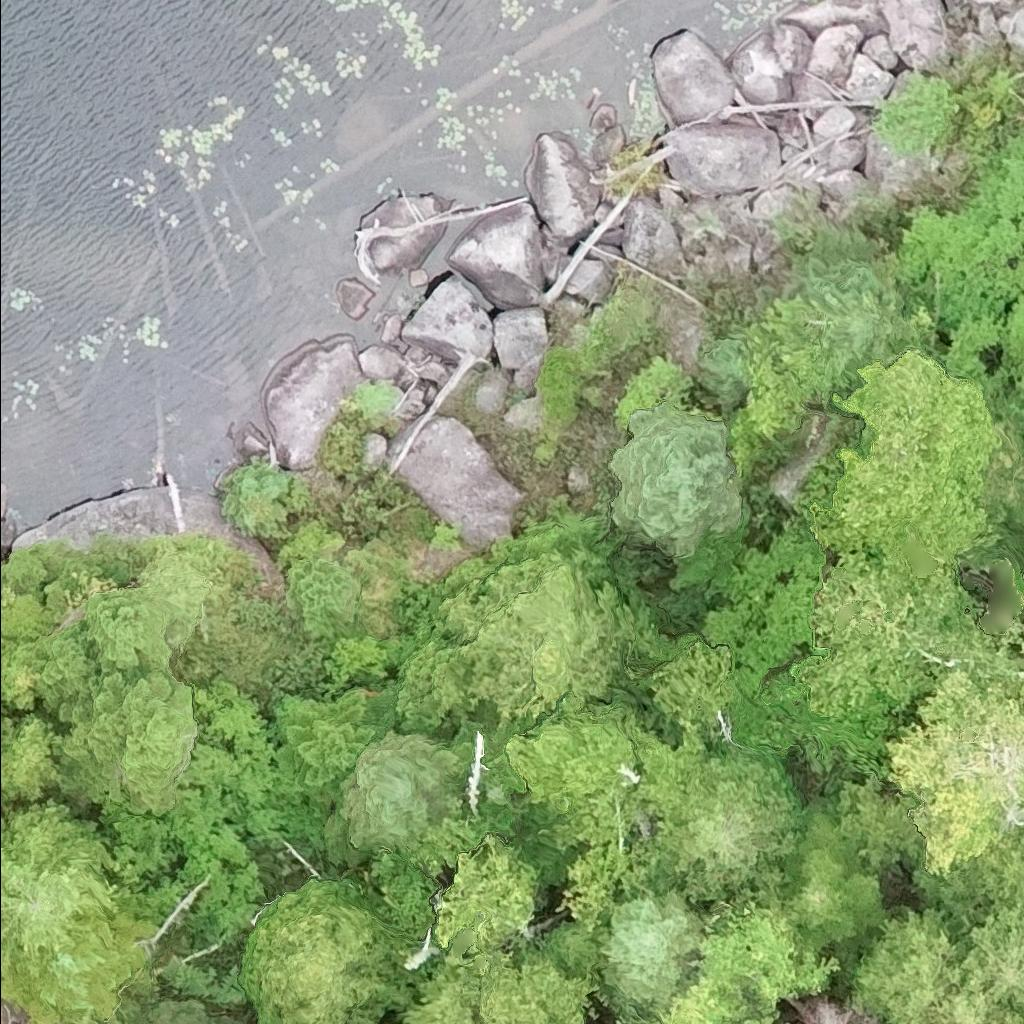crown: (809, 350, 999, 592), (506, 694, 705, 924), (796, 554, 1023, 714), (238, 876, 440, 1023), (457, 564, 634, 725), (885, 673, 1023, 877), (653, 744, 794, 905), (0, 799, 115, 975), (613, 403, 743, 552), (59, 672, 196, 813), (792, 224, 917, 375), (0, 908, 156, 1023), (698, 898, 839, 1012), (843, 906, 973, 1023), (912, 823, 1023, 960), (88, 562, 210, 683), (342, 733, 465, 851), (784, 813, 883, 948), (434, 833, 536, 955), (603, 891, 705, 1006), (435, 552, 567, 640), (277, 690, 378, 795), (482, 950, 601, 1023), (395, 640, 472, 725), (962, 907, 1023, 1013), (35, 617, 99, 718), (643, 977, 778, 1023), (222, 464, 304, 539), (286, 558, 361, 637), (400, 955, 486, 1023), (0, 713, 57, 803), (906, 977, 1011, 1023), (698, 339, 752, 409), (0, 642, 50, 709), (0, 593, 58, 648), (792, 999, 882, 1023), (0, 632, 19, 670), (0, 718, 14, 736), (1004, 1012, 1023, 1023), (0, 686, 5, 696), (786, 1023, 791, 1023)
